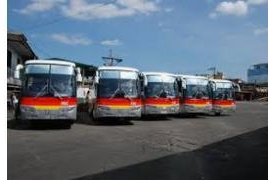bus: (17, 60, 78, 126), (90, 65, 145, 123), (141, 73, 181, 119), (209, 80, 237, 115)
